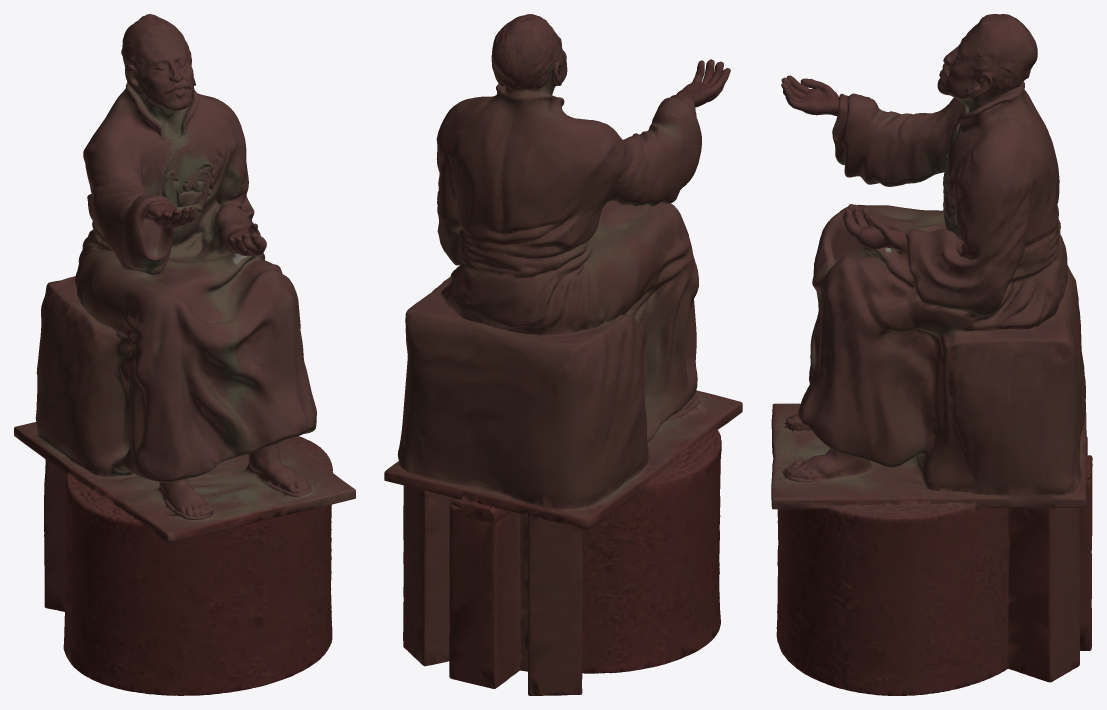
Rendered from Santo_sentado_con_una_mano_levantada.glb.
3 renders of one model, left to right at view 1: azimuth 30°, elevation 25°; view 2: azimuth 150°, elevation 25°; view 3: azimuth 270°, elevation 25°, orthographic. The views are drawn at different scales.
Size of the model in its own units: 0.8033 by 1.9 by 0.8944.
1 material, 1 textured.
